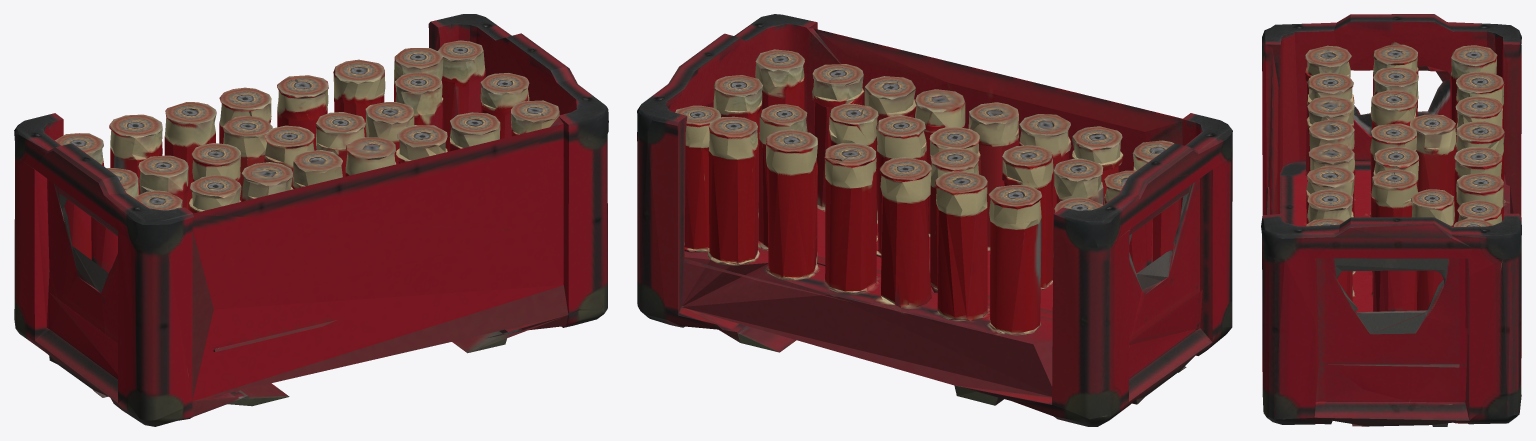
File: ammo_shell.glb
3 renders of one model, left to right at view 1: azimuth 30°, elevation 25°; view 2: azimuth 150°, elevation 25°; view 3: azimuth 270°, elevation 25°, orthographic. The views are drawn at different scales.
Size of the model in its own units: 1.9 by 0.844 by 0.9806.
Materials: 1 (1 with a texture image).
